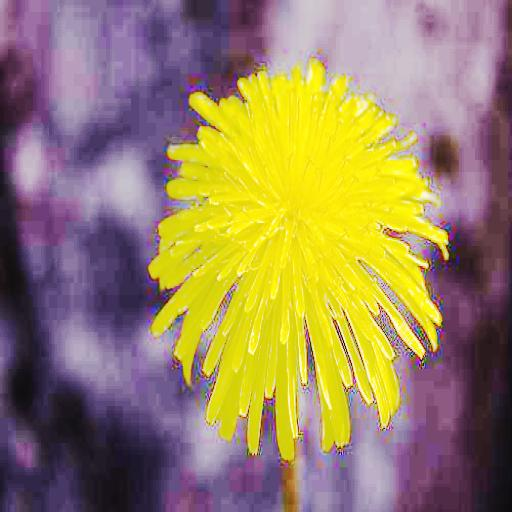dandelion: (148, 55, 452, 443)
